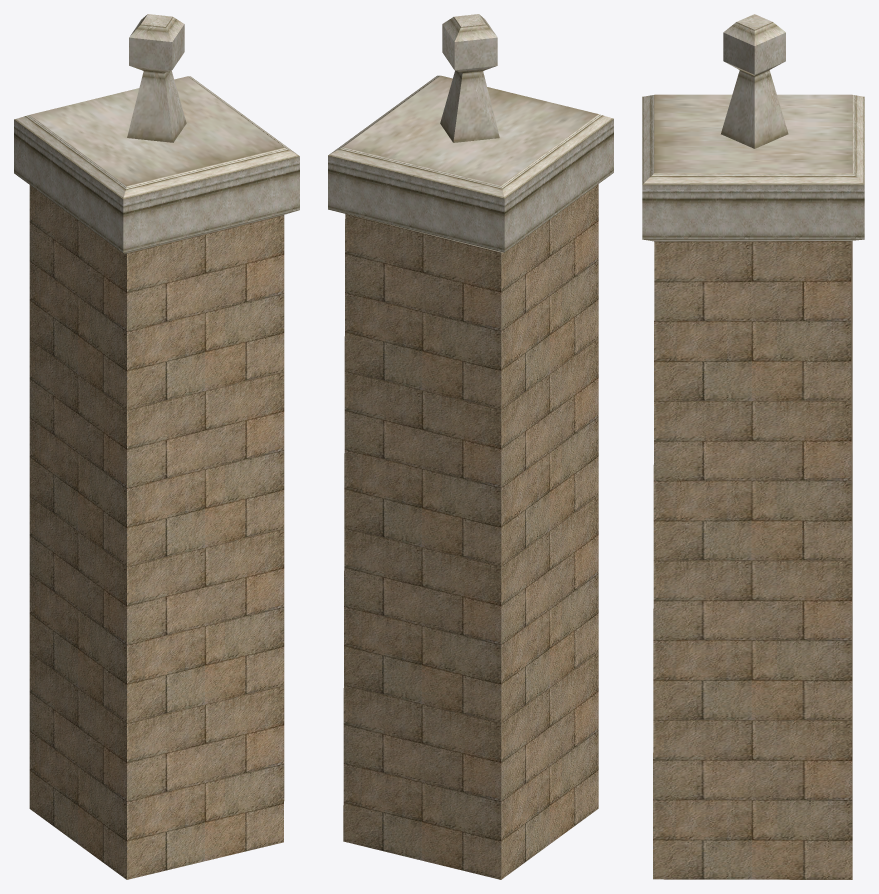
File: thm_nboo_imprv_pillar_s01_l1.fbx
The picture shows the model from 3 angles, left to right: view 1: azimuth 30°, elevation 25°; view 2: azimuth 150°, elevation 25°; view 3: azimuth 270°, elevation 25°; orthographic projection.
Parts seen in each view (by area): view 1: mesh_node; view 2: mesh_node; view 3: mesh_node.
Boxes of the visible parts, x1,y1,x2,y2 form: mesh_node: [14, 14, 299, 879]; mesh_node: [328, 14, 613, 879]; mesh_node: [642, 14, 864, 879].
Bounding box in the file's own units: 2.28 × 9.9 × 2.43.
Materials: 1 (1 with a texture image).
